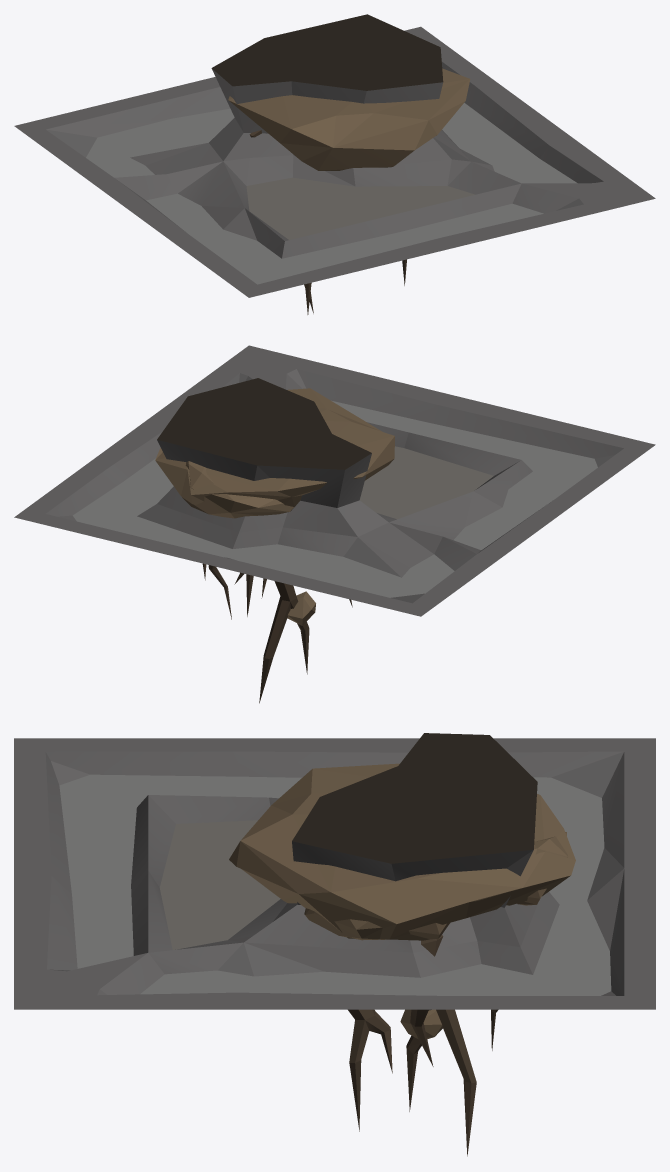
Rendered from SM_Env_Ceiling_Stone_Flat_05.glb.
3 renders of one model, top to bottom at view 1: azimuth 30°, elevation 25°; view 2: azimuth 150°, elevation 25°; view 3: azimuth 270°, elevation 25°, orthographic. The views are drawn at different scales.
Parts seen in each view (by area): view 1: SM_Env_Ceiling_Stone_Flat_05; view 2: SM_Env_Ceiling_Stone_Flat_05; view 3: SM_Env_Ceiling_Stone_Flat_05.
Boxes of the visible parts, x1,y1,x2,y2 form: SM_Env_Ceiling_Stone_Flat_05: (14, 14, 655, 314); SM_Env_Ceiling_Stone_Flat_05: (14, 345, 655, 703); SM_Env_Ceiling_Stone_Flat_05: (14, 733, 655, 1156).
Size of the model in its own units: 0.05 by 0.031 by 0.05.
1 material, 1 textured.
